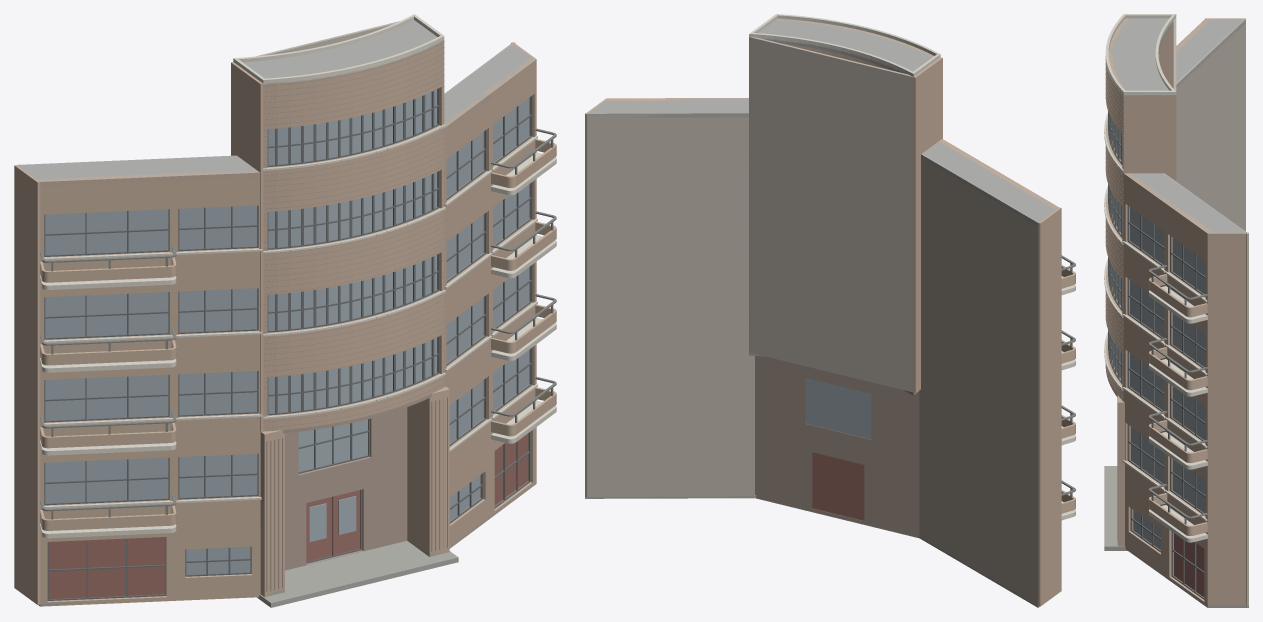
Rendered from xuhui-amyron-apartments-street-front-raw.glb.
3 renders of one model, left to right at view 1: azimuth 30°, elevation 25°; view 2: azimuth 150°, elevation 25°; view 3: azimuth 270°, elevation 25°, orthographic. The views are drawn at different scales.
Visible parts, largest first — view 1: 高安公寓转角弧窗与通高门廊; view 2: 高安公寓转角弧窗与通高门廊; view 3: 高安公寓转角弧窗与通高门廊.
Boxes of the visible parts, x1,y1,x2,y2 form: 高安公寓转角弧窗与通高门廊: (14, 14, 556, 607); 高安公寓转角弧窗与通高门廊: (585, 14, 1075, 607); 高安公寓转角弧窗与通高门廊: (1104, 14, 1248, 607).
Bounding box in the file's own units: 21.35 × 20.57 × 5.9.
